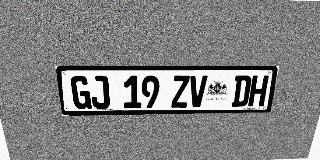1: (123, 76, 141, 108)
9: (142, 75, 159, 108)
D: (231, 75, 252, 107)
G: (70, 76, 92, 109)
H: (248, 75, 269, 106)
J: (89, 76, 110, 109)
V: (188, 75, 208, 107)
Z: (171, 75, 190, 108)
